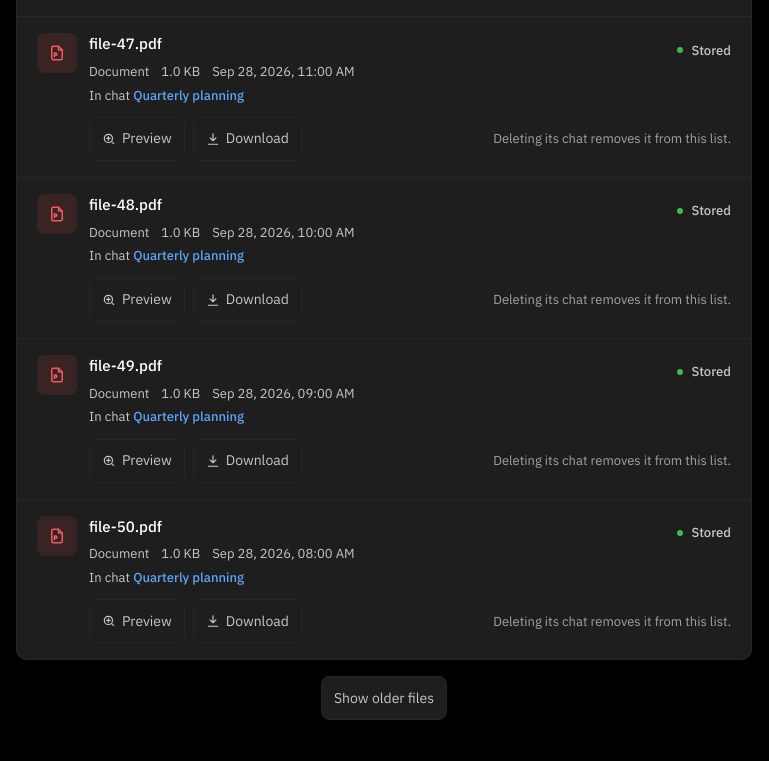
Scenario: the list › loads older files without repeating one
(page scrolled)
Click the button "Show older files" at (384, 698), box [321, 676, 447, 720]
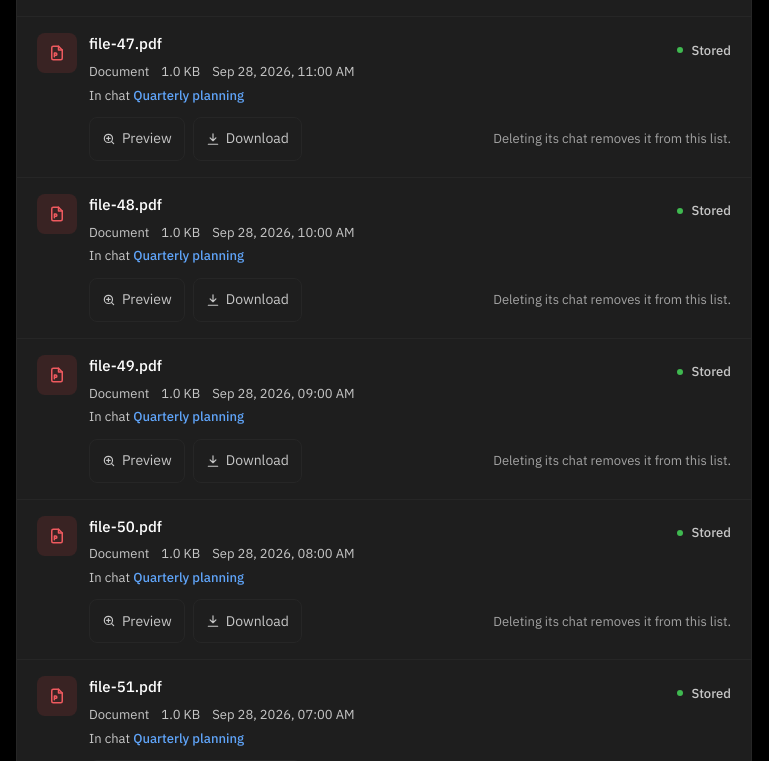
Check: the button "Show older files" is gone
